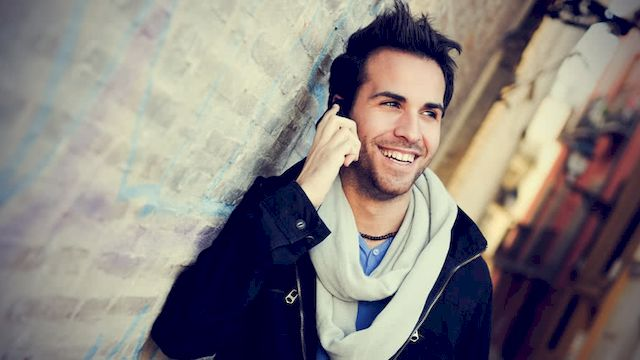phone: (321, 96, 354, 159)
talk: (307, 84, 447, 200)
